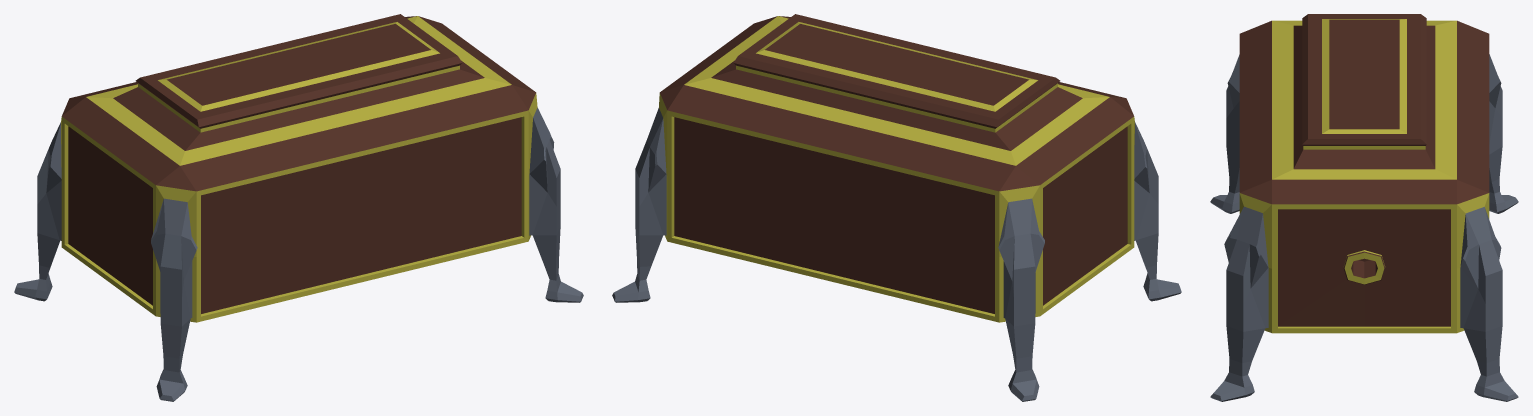
File: MusicBox.fbx
The picture shows the model from 3 angles, left to right: view 1: azimuth 30°, elevation 25°; view 2: azimuth 150°, elevation 25°; view 3: azimuth 270°, elevation 25°; orthographic projection.
Visible parts, largest first — view 1: MusicBox; view 2: MusicBox; view 3: MusicBox.
Boxes of the visible parts, <box> form: MusicBox: <box>14,14,583,401</box>; MusicBox: <box>612,14,1181,401</box>; MusicBox: <box>1210,14,1518,401</box>.
Bounding box in the file's own units: 0.3916 × 0.2036 × 0.2514.
